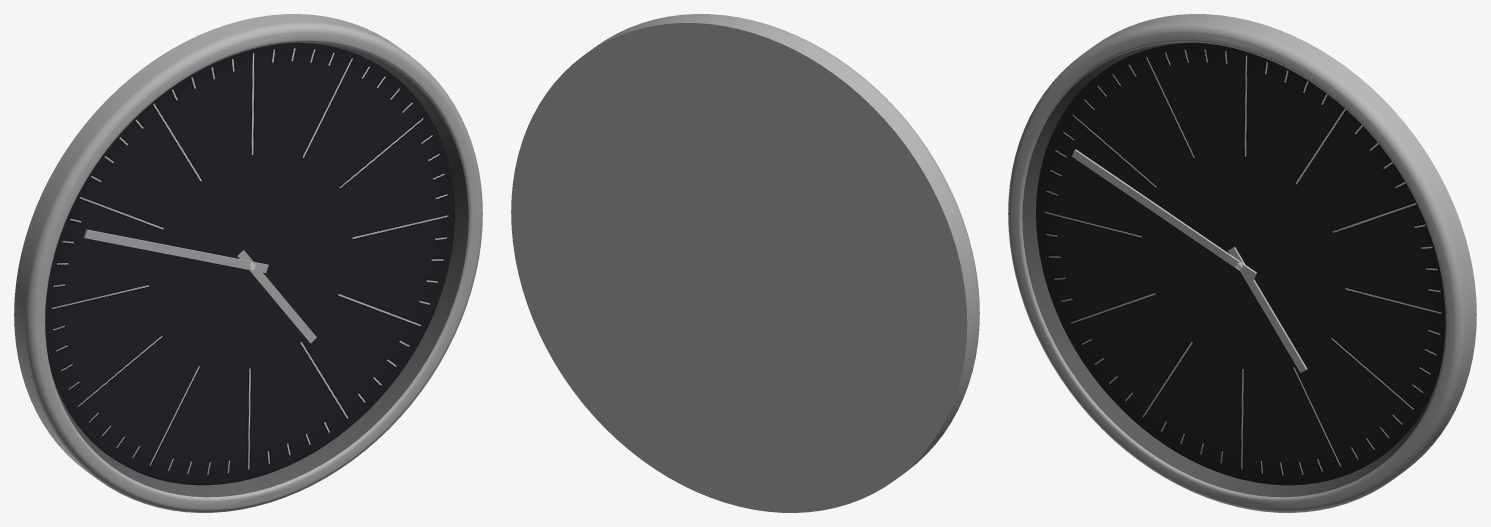
File: clock.dae
3 views of the same model, side by side, from view 1: azimuth 30°, elevation 25°; view 2: azimuth 150°, elevation 25°; view 3: azimuth 330°, elevation 25° (orthographic).
Parts seen in each view (by area): view 1: ID54, ID46, ID67, ID75, Component_2, Component_7; view 2: ID46; view 3: ID54, ID46, ID67, ID75, Component_2, Component_7.
Boxes of the visible parts, x1,y1,x2,y2 form: ID54: (45, 42, 454, 485); ID46: (14, 14, 482, 512); ID67: (51, 42, 468, 497); ID75: (43, 39, 472, 501); Component_2: (83, 229, 268, 273); Component_7: (237, 250, 316, 343); ID46: (511, 14, 979, 512); ID54: (1036, 42, 1445, 485); ID46: (1008, 14, 1476, 512); ID67: (1022, 42, 1439, 497); ID75: (1018, 39, 1447, 501); Component_2: (1072, 149, 1256, 279); Component_7: (1228, 247, 1307, 372).
Bounding box in the file's own units: 228 × 13.78 × 228.
Materials: 6 (1 with a texture image).
